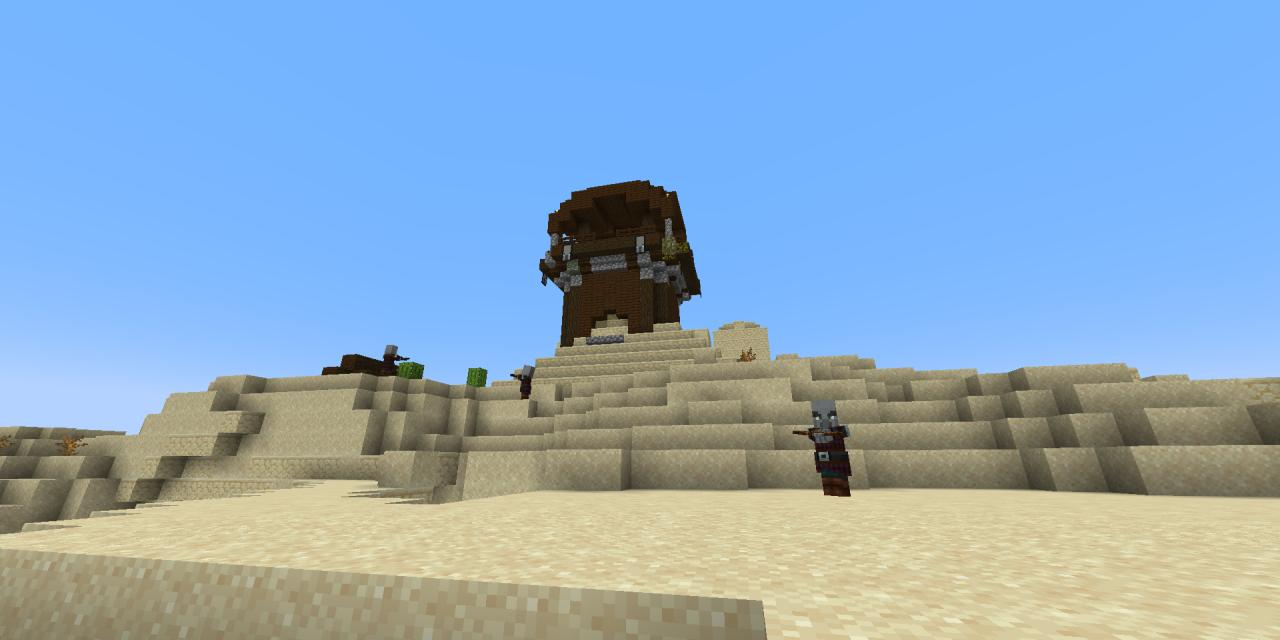pillager outpost: (528, 165, 708, 366)
